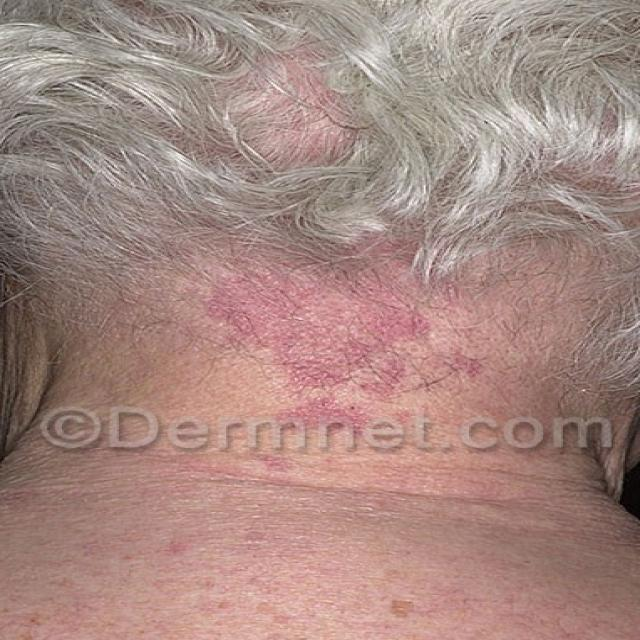Vascular Tumors: (144, 211, 550, 479)
